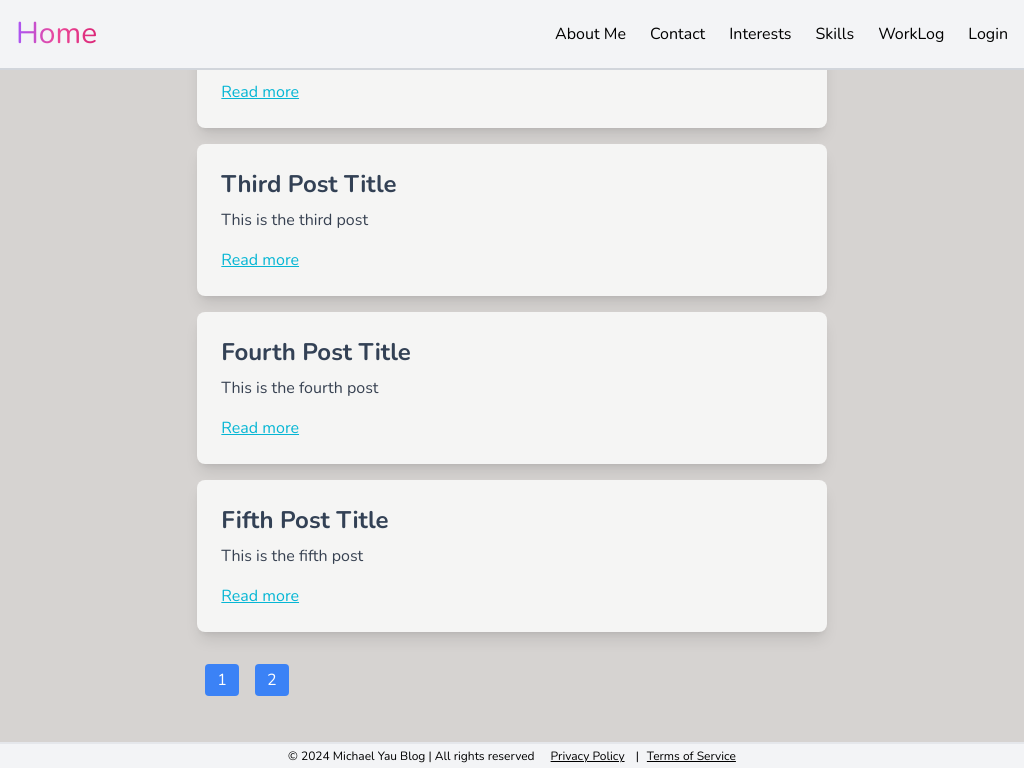
it: LandingPage › paginates through posts
(page scrolled)
Expected: the link "Fifth Post Title" is shown, left=221, top=504, right=389, bottom=536
Expected: the text "Sixth Post Title" is not shown
Click the button with test id "pagination-button-2" at (272, 680), box left=255, top=664, right=288, bottom=696
(page scrolled)
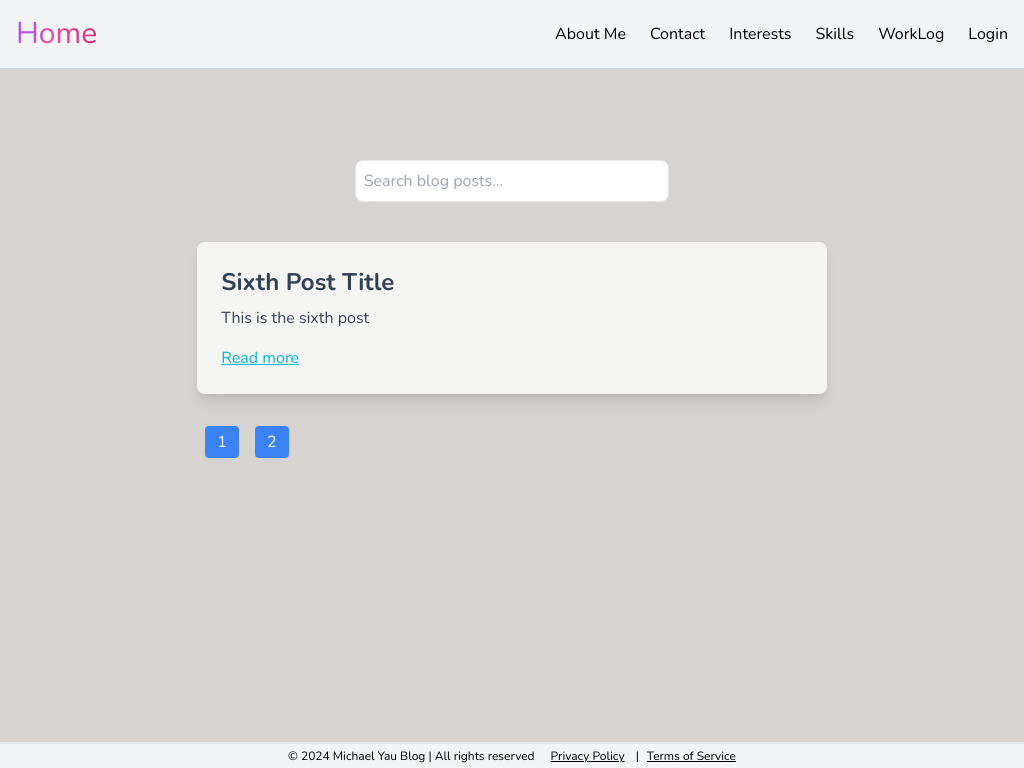
Expected: the link "Sixth Post Title" is shown, left=221, top=266, right=394, bottom=298
